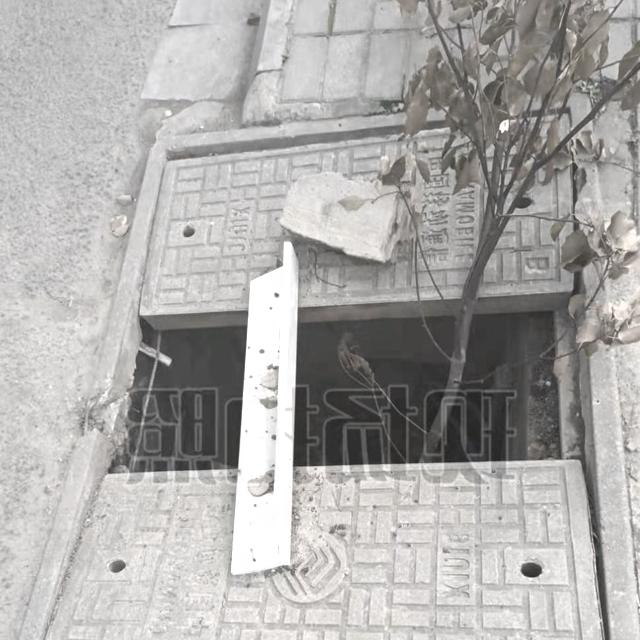lose: (0, 89, 640, 640)
